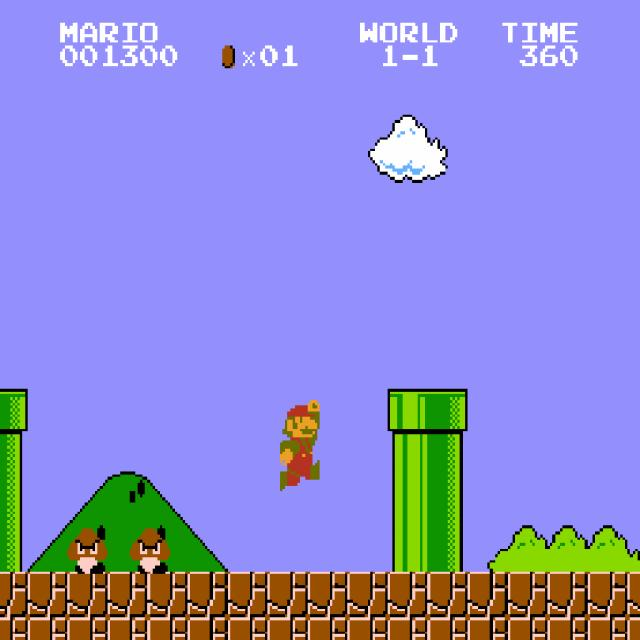big_mario: (277, 397, 320, 491)
goomba: (127, 526, 170, 574), (65, 526, 107, 574)
pipe: (387, 434, 428, 480), (387, 480, 428, 526), (427, 434, 468, 480), (427, 480, 468, 526), (387, 526, 428, 571), (427, 526, 468, 571), (0, 434, 28, 480), (0, 480, 28, 526), (0, 526, 28, 571)
pipe_head: (387, 389, 428, 434), (427, 389, 468, 434), (0, 389, 28, 434)
undestructible_block: (27, 572, 68, 617), (67, 572, 108, 617), (107, 572, 148, 617), (147, 572, 188, 617), (187, 572, 228, 617), (227, 572, 268, 617), (267, 572, 308, 617), (307, 572, 348, 617), (347, 572, 388, 617), (387, 572, 428, 617), (427, 572, 468, 617), (467, 572, 508, 617), (507, 572, 548, 617), (547, 572, 588, 617), (587, 572, 628, 617), (0, 572, 28, 617), (27, 617, 68, 640), (67, 617, 108, 640), (107, 617, 148, 640), (147, 617, 188, 640), (187, 617, 228, 640), (227, 617, 268, 640), (267, 617, 308, 640), (307, 617, 348, 640), (347, 617, 388, 640), (387, 617, 428, 640), (427, 617, 468, 640), (467, 617, 508, 640), (507, 617, 548, 640), (547, 617, 588, 640), (587, 617, 628, 640), (0, 617, 28, 640), (627, 572, 640, 617), (627, 617, 640, 640)
